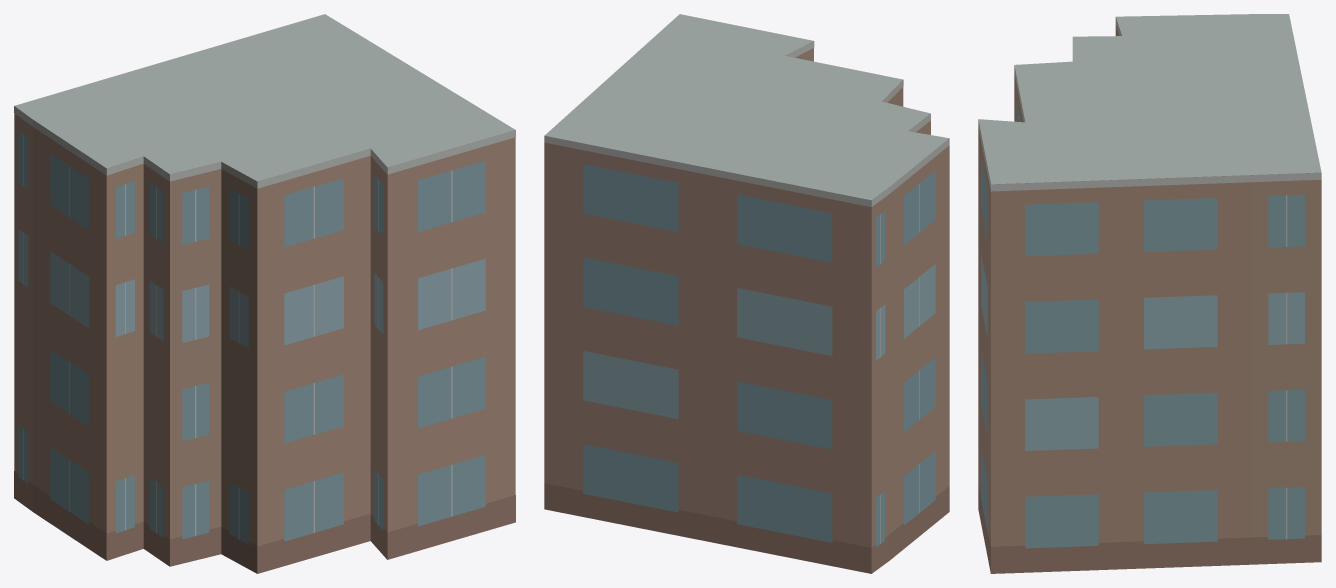
The model's file is survey-upis-32754617.glb.
3 views of the same model, side by side, from view 1: azimuth 30°, elevation 25°; view 2: azimuth 150°, elevation 25°; view 3: azimuth 270°, elevation 25° (orthographic). The views are drawn at different scales.
Visible parts, largest first — view 1: survey-upis-32754617.tmp; view 2: survey-upis-32754617.tmp; view 3: survey-upis-32754617.tmp.
Part boxes in pixels (bbox=[...]): survey-upis-32754617.tmp: bbox=[14, 14, 515, 573]; survey-upis-32754617.tmp: bbox=[544, 14, 949, 573]; survey-upis-32754617.tmp: bbox=[978, 14, 1321, 573].
Bounding box in the file's own units: 12.44 × 13.25 × 10.59.
